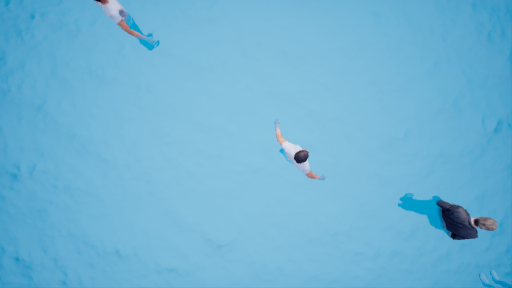person: (398, 191, 500, 244), (270, 120, 328, 188), (95, 1, 152, 57)
